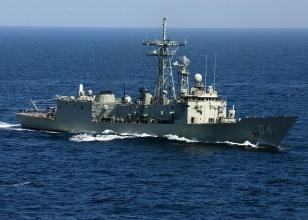warship: (7, 21, 299, 147)
